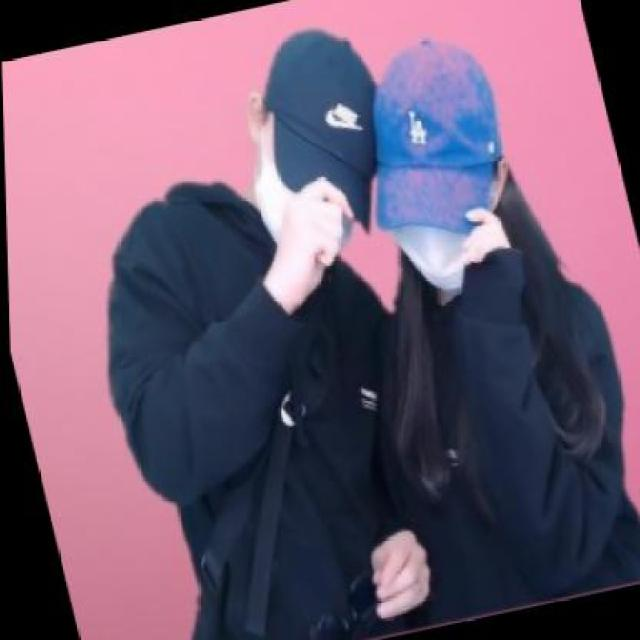hat: (332, 28, 526, 248), (246, 18, 411, 248)
